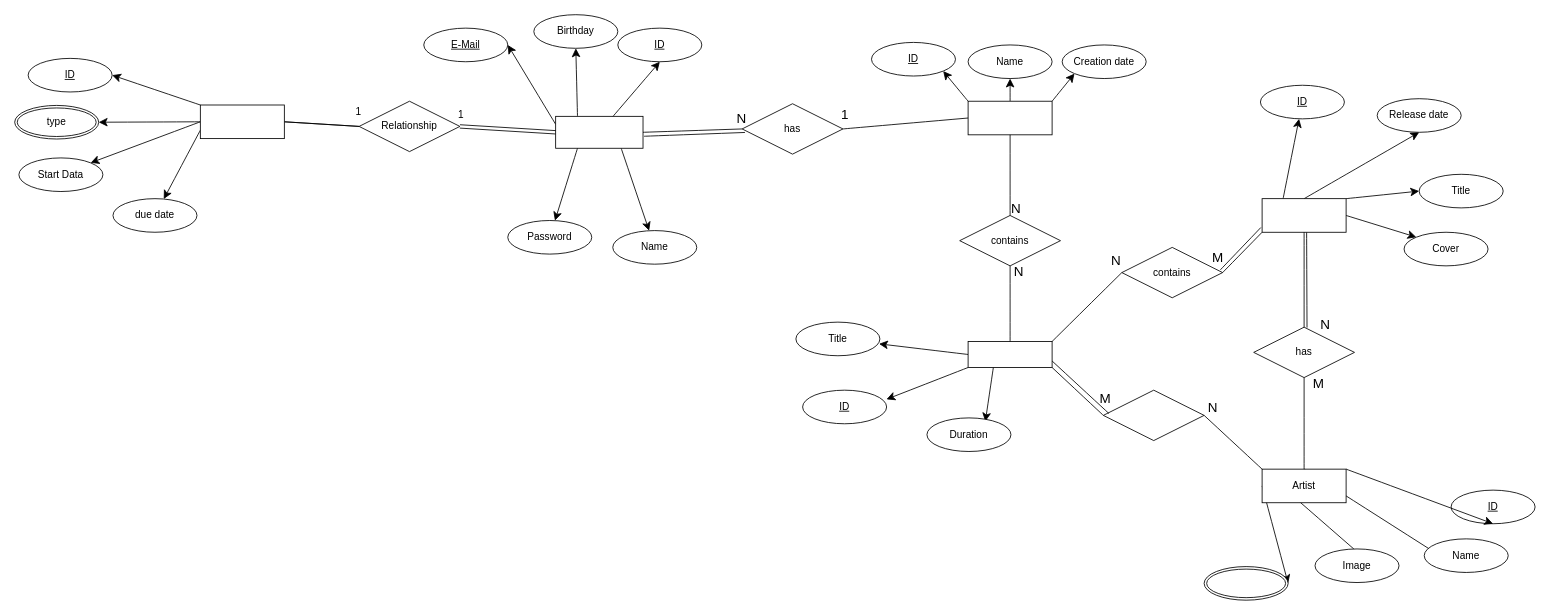
Image size: 1550x615. Some labels were removed from this diagram. The shapes that lost their labels are listed below. From the top down, each one's box as (x1, y1, x2, y2) in pixels, then its label:
(200, 104, 284, 139): subscription
(555, 116, 643, 148): User
(967, 100, 1052, 135): Playlist
(1261, 198, 1346, 232): Album
(967, 341, 1052, 368): Track
(1102, 389, 1204, 441): made by
(1203, 566, 1288, 600): Genre
